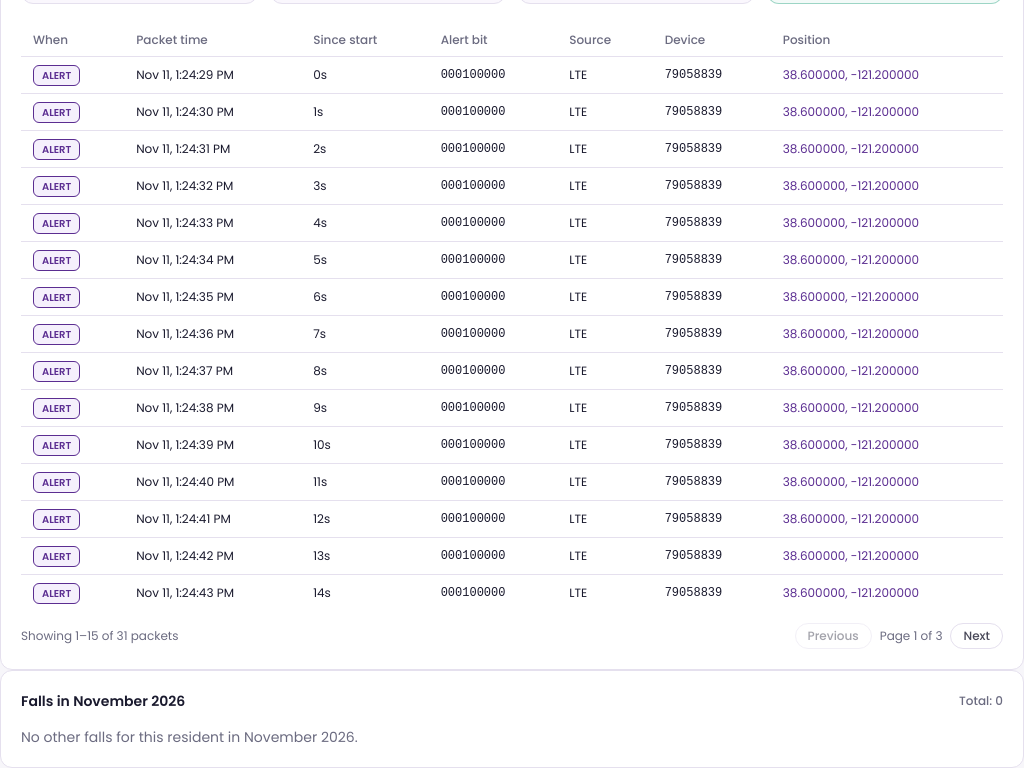
FallSection: packets table › pages 15 packets at a time
(page scrolled)
Check: the text "Showing 1–15 of 31 packets" is shown, box [21,628,178,644]
Check: the button "Previous" is disabled, box [795,622,872,648]
Step 1. Click the button "Next" → (977, 636), box [950,622,1003,648]
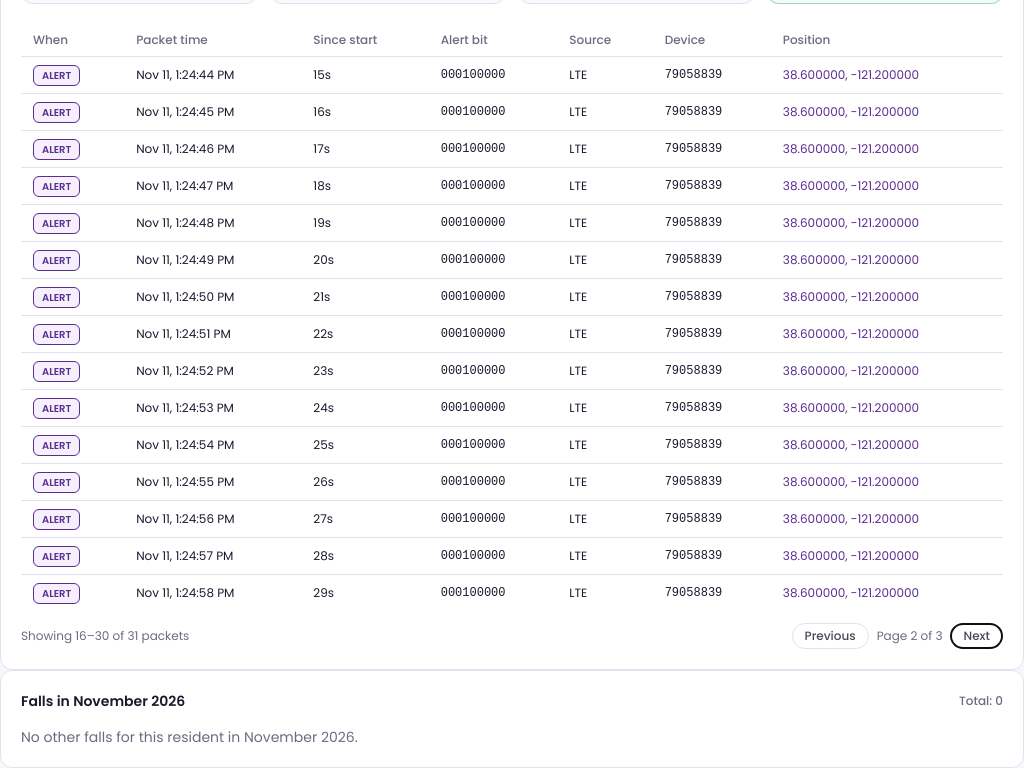
Step 2. Click the button "Next" → (977, 636), box [950,622,1003,648]
(page scrolled)
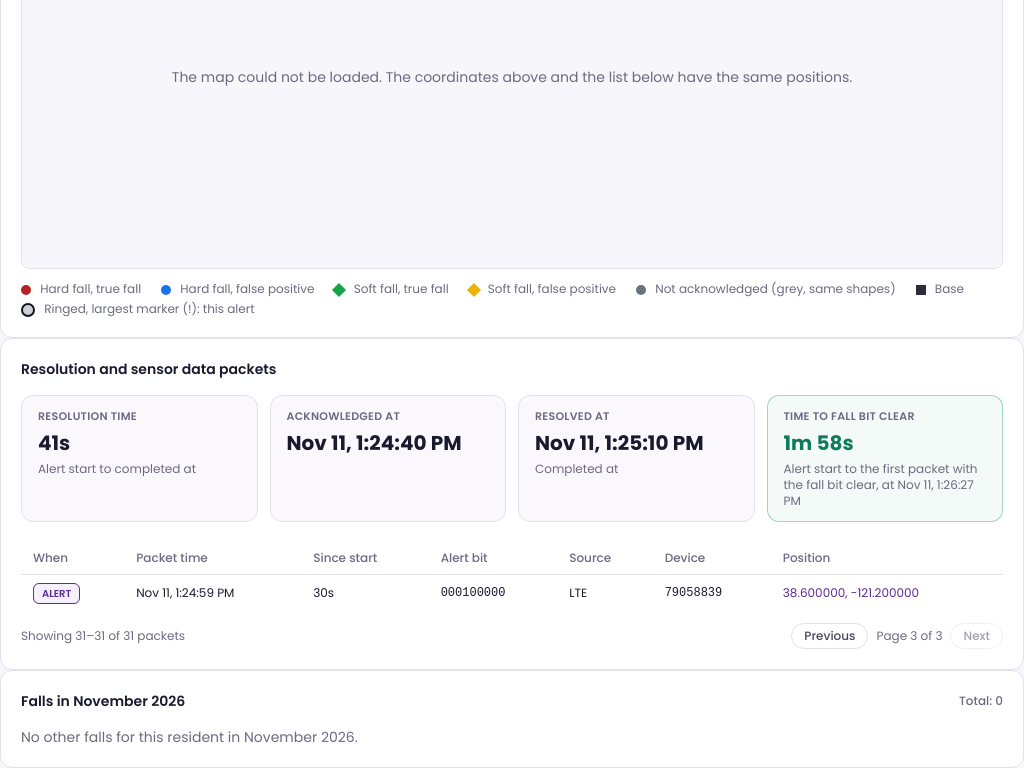
Check: the text "Showing 31–31 of 31 packets" is shown, box [21,628,185,644]
Check: the button "Next" is disabled, box [950,622,1003,648]
